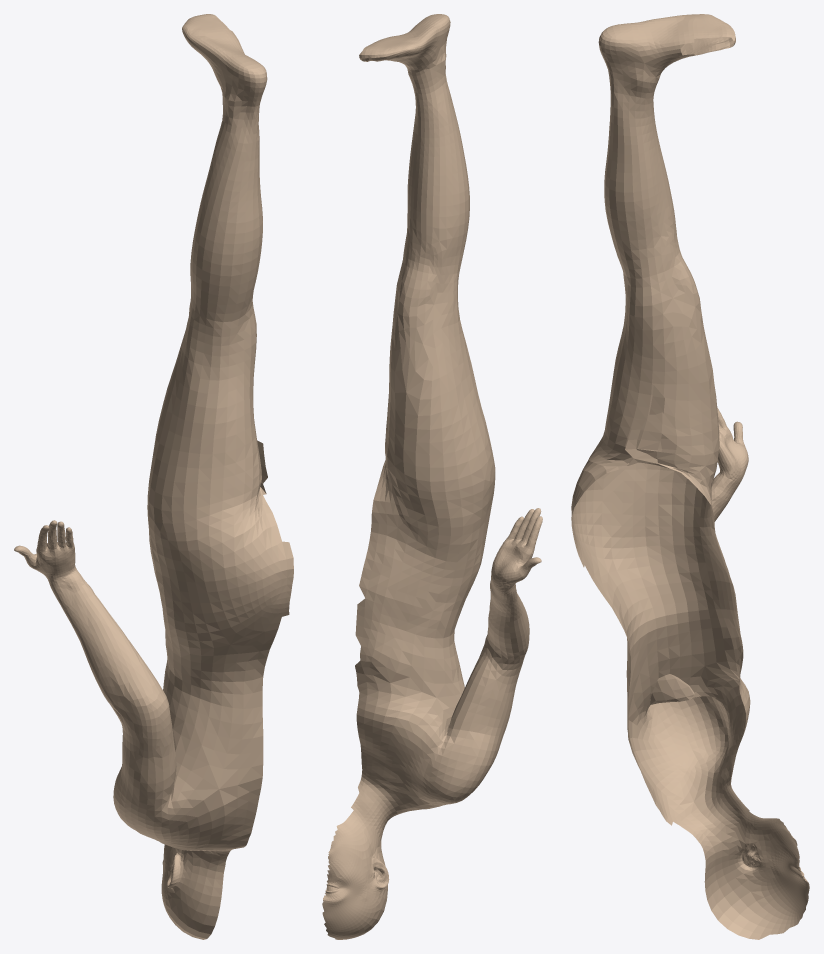
Rendered from left_with_axial.obj.
3 views of the same model, side by side, from view 1: azimuth 30°, elevation 25°; view 2: azimuth 150°, elevation 25°; view 3: azimuth 270°, elevation 25° (orthographic). The views are drawn at different scales.
Visible parts, largest first — view 1: Left_Body; view 2: Left_Body; view 3: Left_Body.
Boxes of the visible parts, x1,y1,x2,y2 form: Left_Body: (14,14,293,939); Left_Body: (322,14,542,939); Left_Body: (571,14,809,939).
Size of the model in its own units: 0.3928 by 1.79 by 0.4265.
